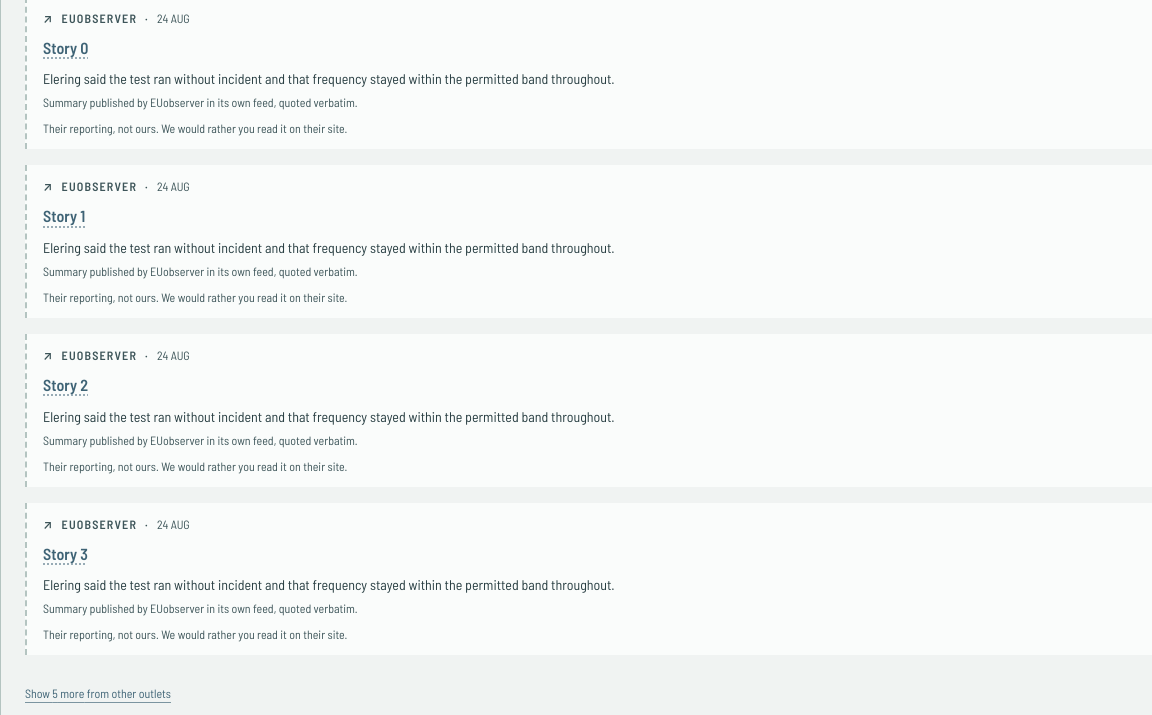
Test case: Elsewhere rail: length › expands on request
The width and height of the screenshot is (1152, 715).
(page scrolled)
Click the button "Show 5 more from other outlets". click: (98, 693)
box: [25,671,171,714]
(page scrolled)
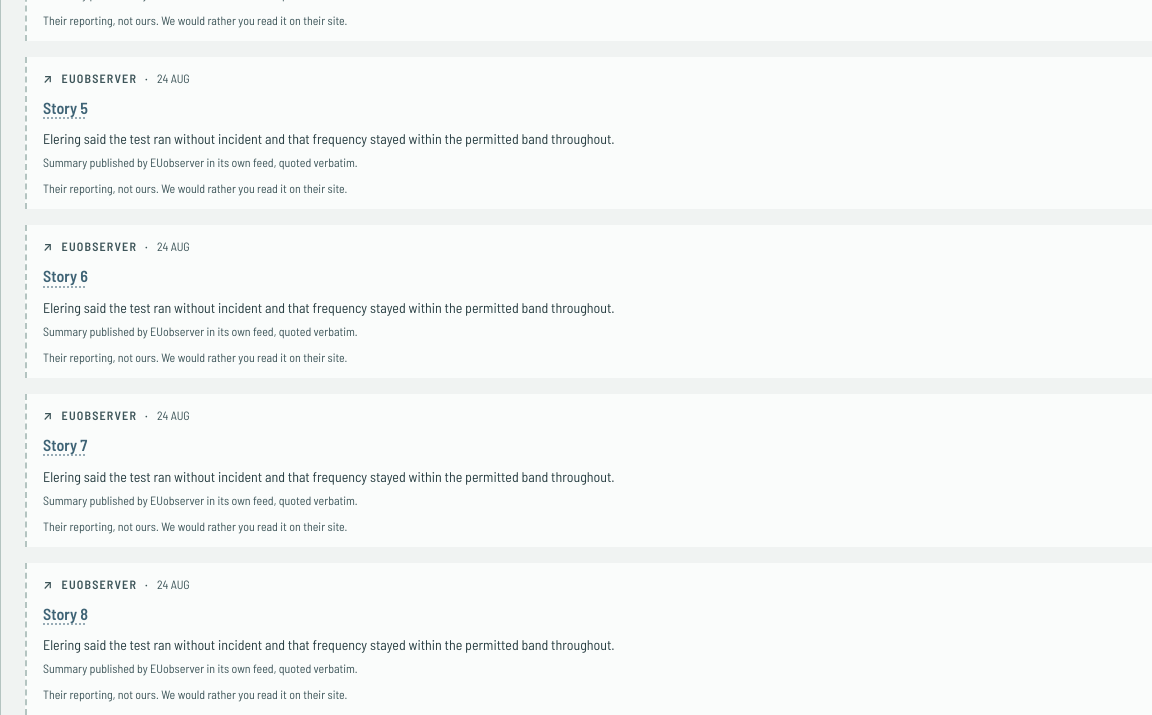
Expected: the link "Story 8" is shown, [43,604,88,623]
